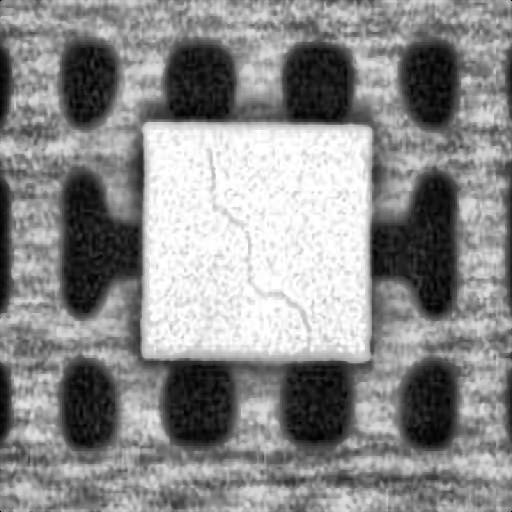DIE_CRACK: (204, 148, 314, 340)
